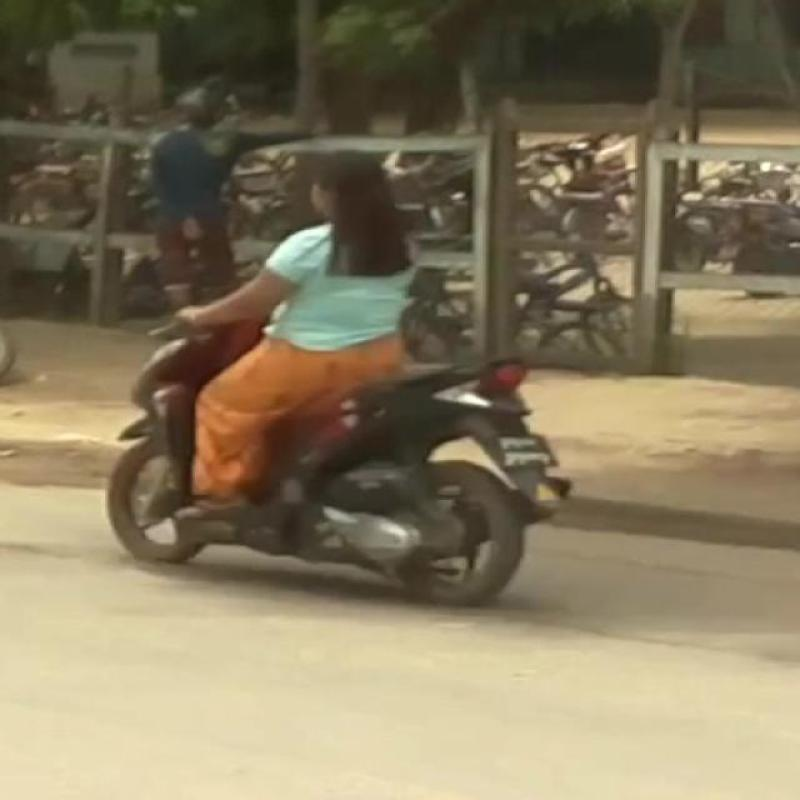nohelmet: (288, 140, 462, 266)
